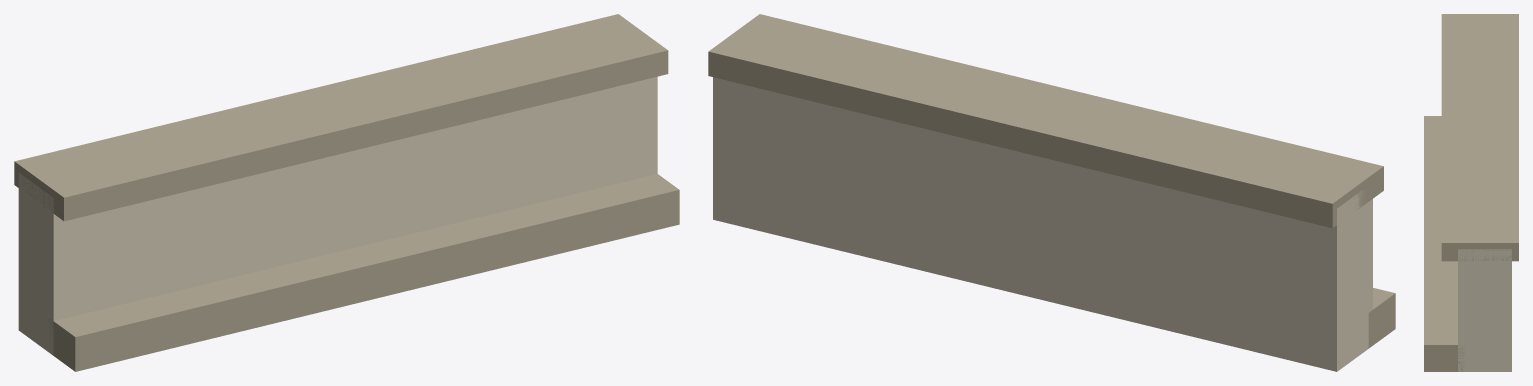
The model's file is co_top.glb.
3 renders of one model, left to right at view 1: azimuth 30°, elevation 25°; view 2: azimuth 150°, elevation 25°; view 3: azimuth 270°, elevation 25°, orthographic. The views are drawn at different scales.
Visible parts, largest first — view 1: city_co_top; view 2: city_co_top; view 3: city_co_top.
Part boxes in pixels (x1,y1,x2,y2): city_co_top: (14, 14, 679, 371); city_co_top: (708, 14, 1395, 371); city_co_top: (1424, 14, 1518, 371).
Size of the model in its own units: 4 by 1.05 by 0.7.
1 material, 1 textured.
